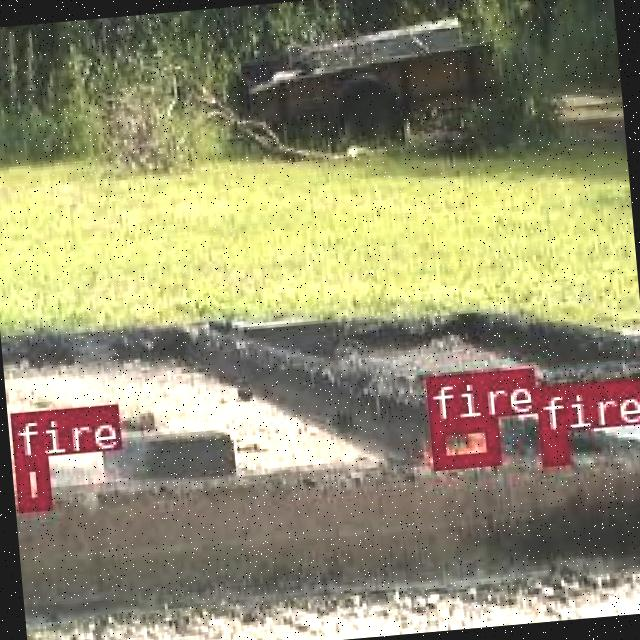fire: (428, 415, 498, 468), (12, 456, 48, 510), (537, 428, 568, 462)
